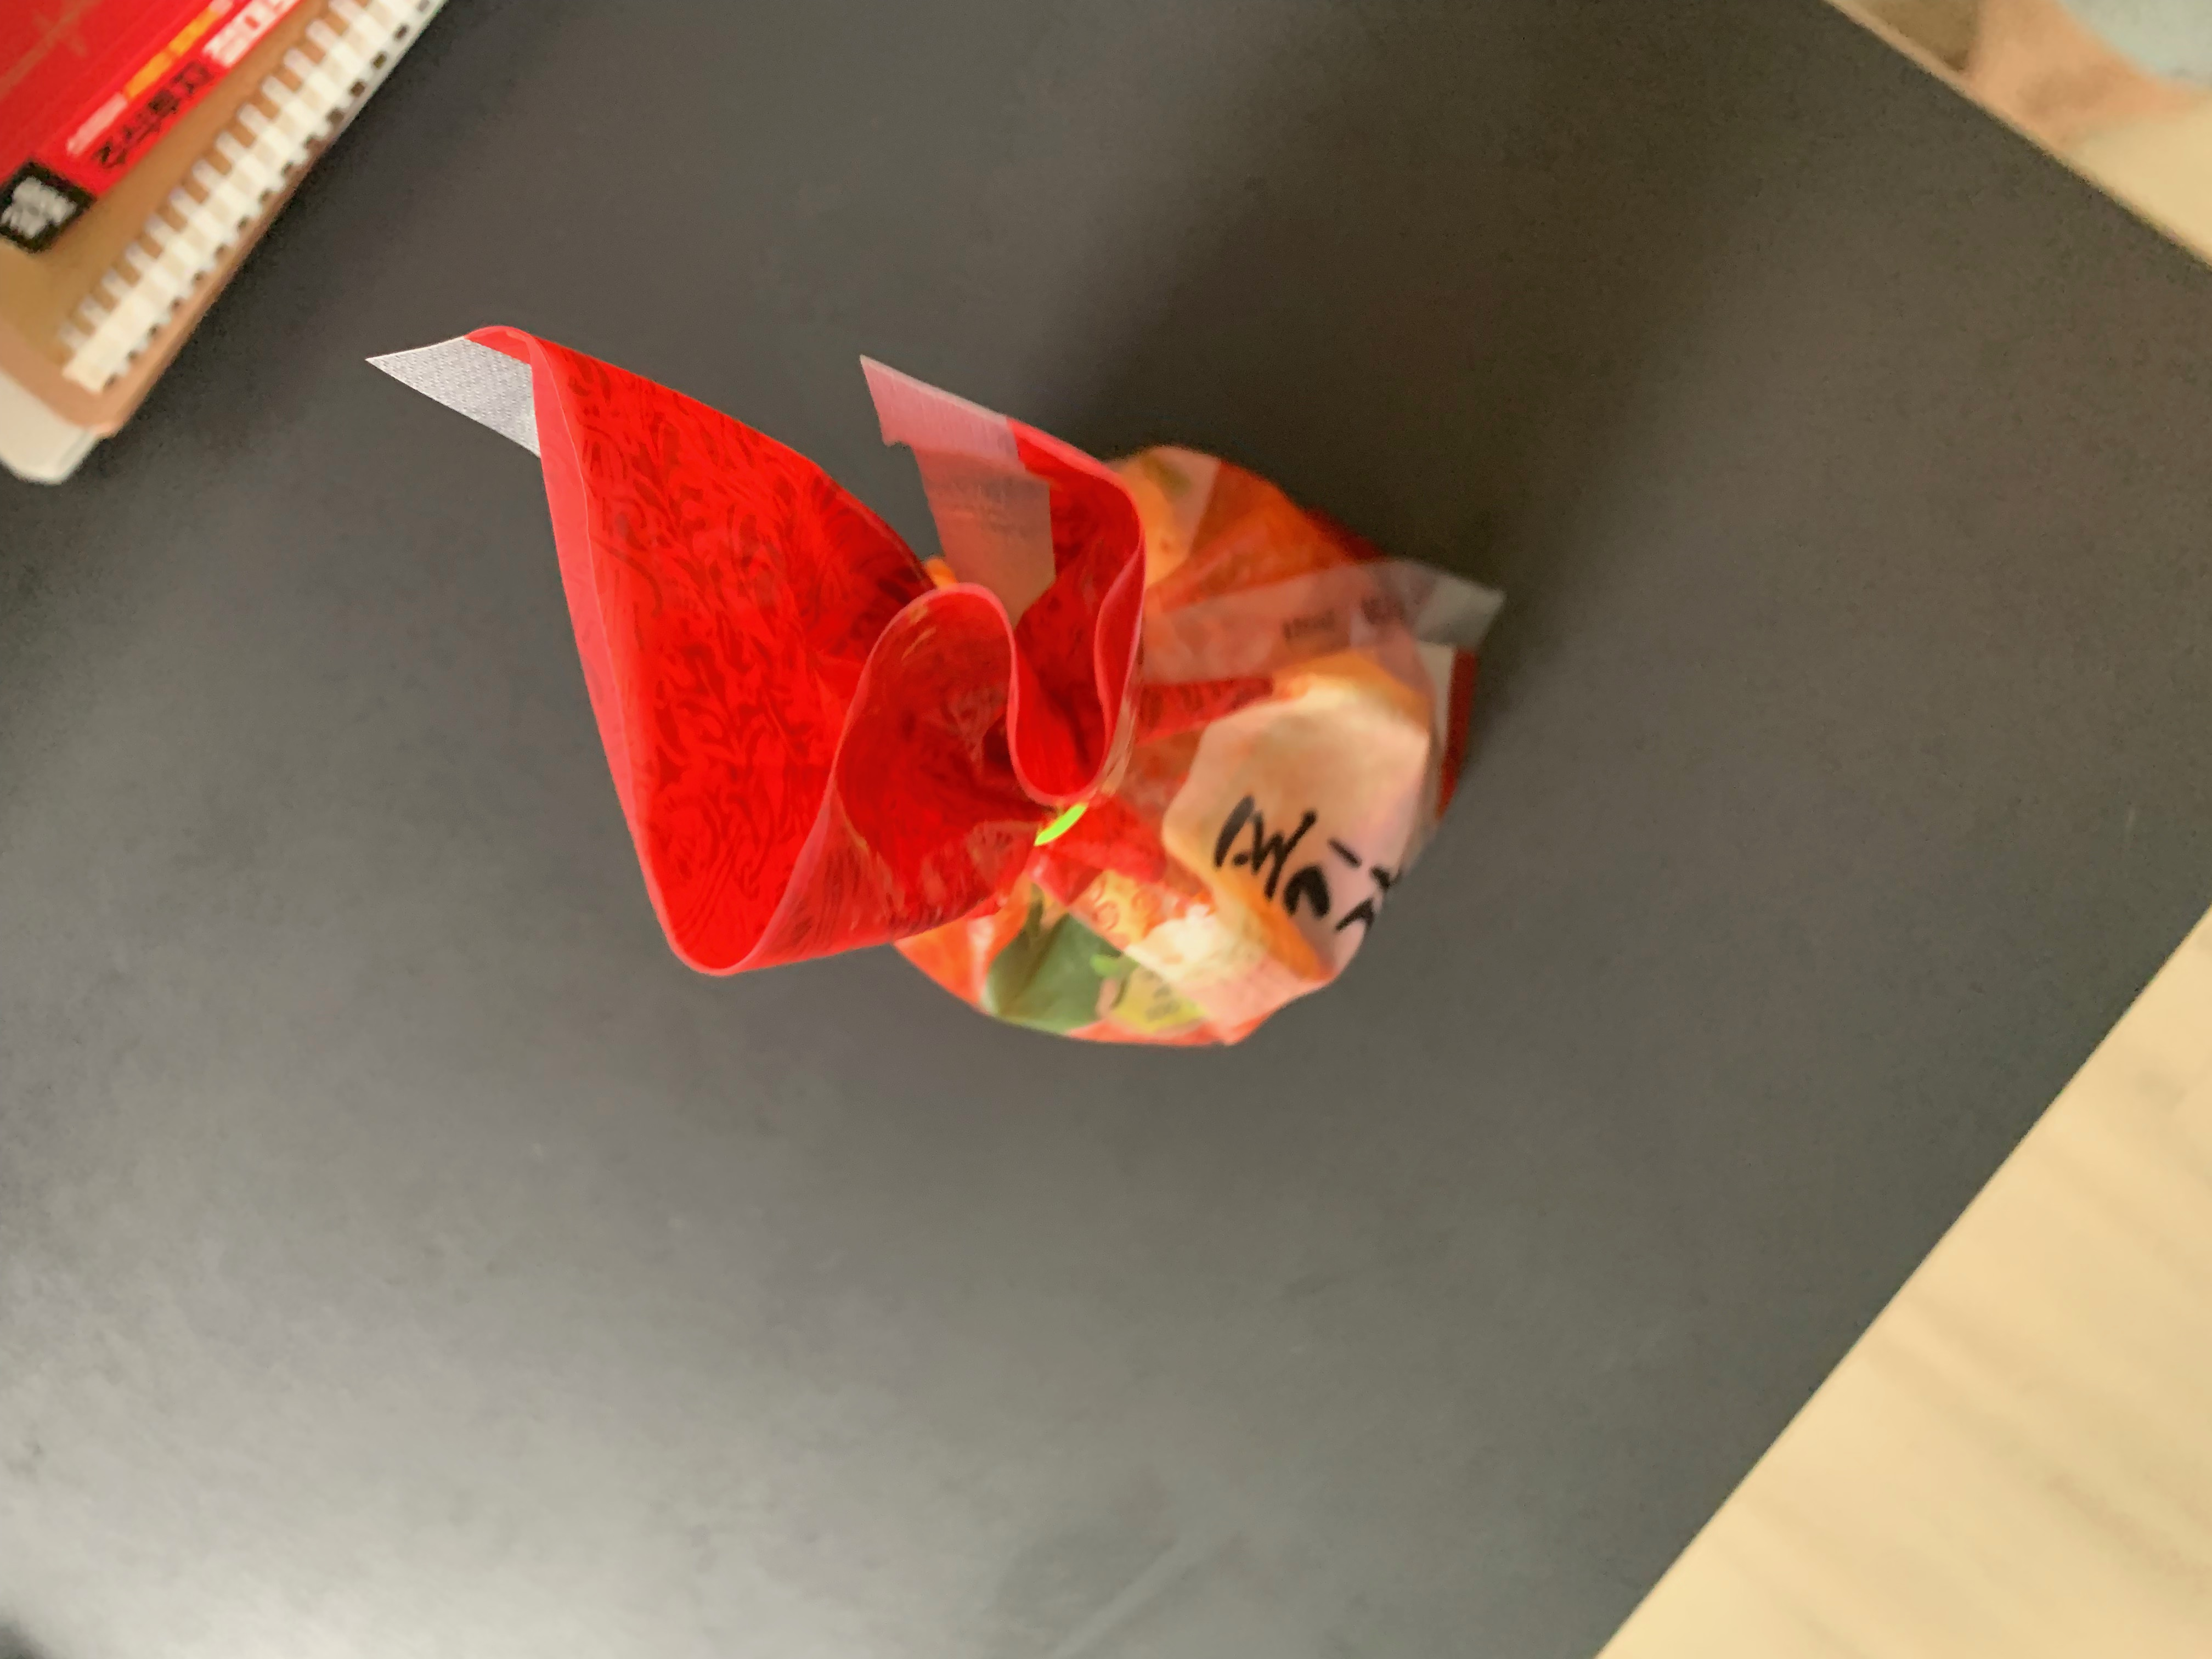kimchi: (505, 356, 1472, 1049)
